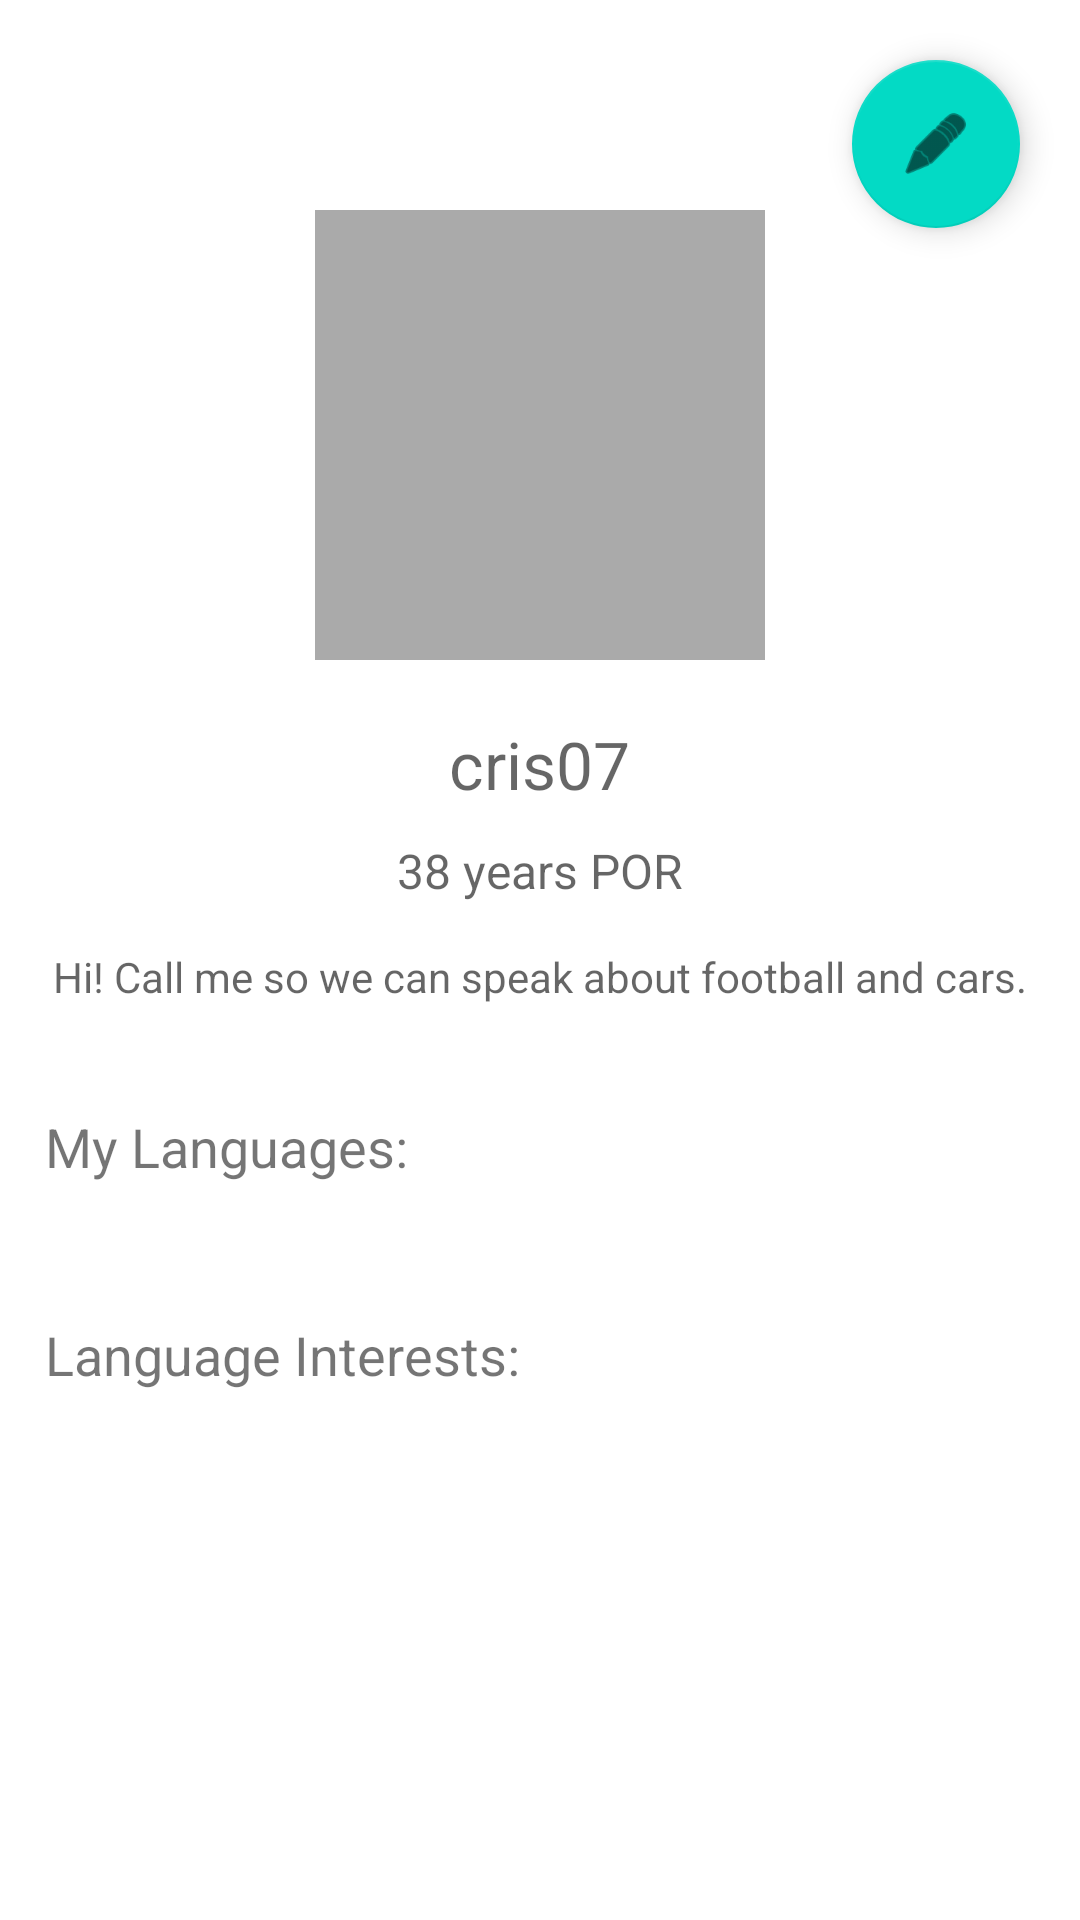

Locate icon controls on the screen. Image size 1080px×1920px, boxes as box(x1, y1, x2, y2).
Edit Profile: box(852, 60, 1020, 228)
